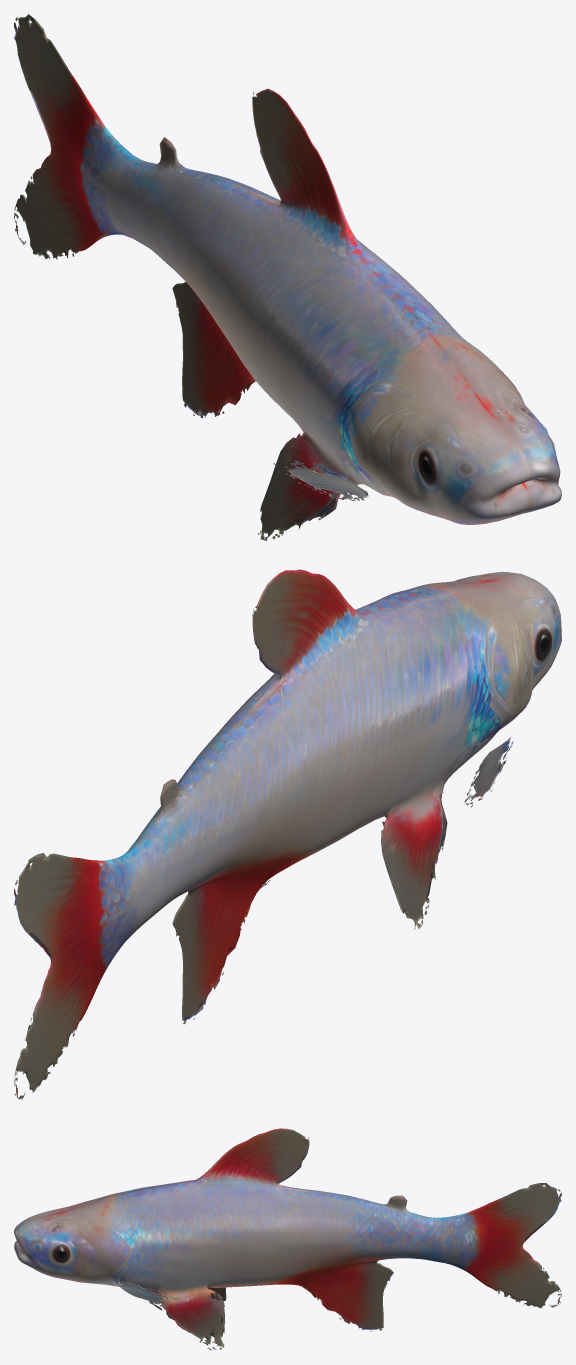
File: Red_fin_0604055734_texture.glb
3 renders of one model, top to bottom at view 1: azimuth 30°, elevation 25°; view 2: azimuth 150°, elevation 25°; view 3: azimuth 270°, elevation 25°, orthographic. The views are drawn at different scales.
Size of the model in its own units: 0.499 by 0.8157 by 1.99.
Materials: 1 (1 with a texture image).
